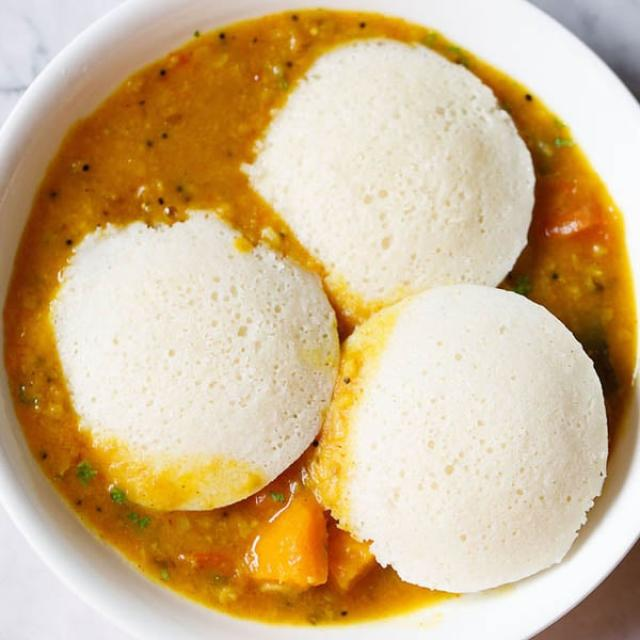IDLI: (50, 38, 610, 593)
